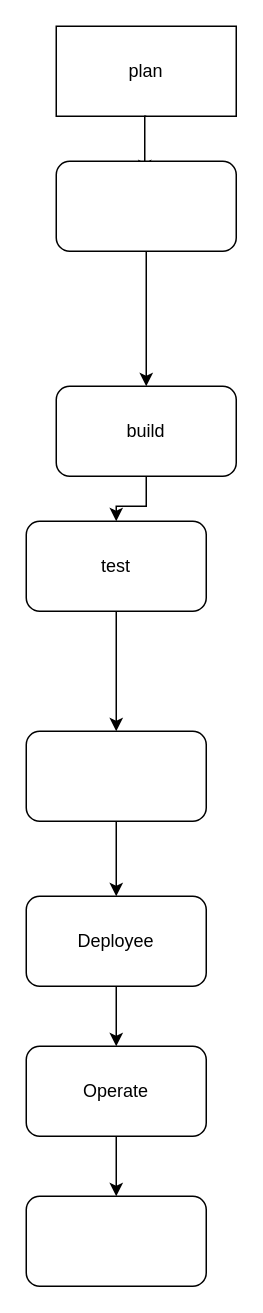
Some shapes in this 263 by 1313 pixel diagram are drawn without their labels. The shapes that lost their labels are listed below. From the top down, each one's centre as x and y in pixels, then its label:
At point 145,205: "Develop".
At point 115,775: "Release".
At point 115,1240: "Monitor".
